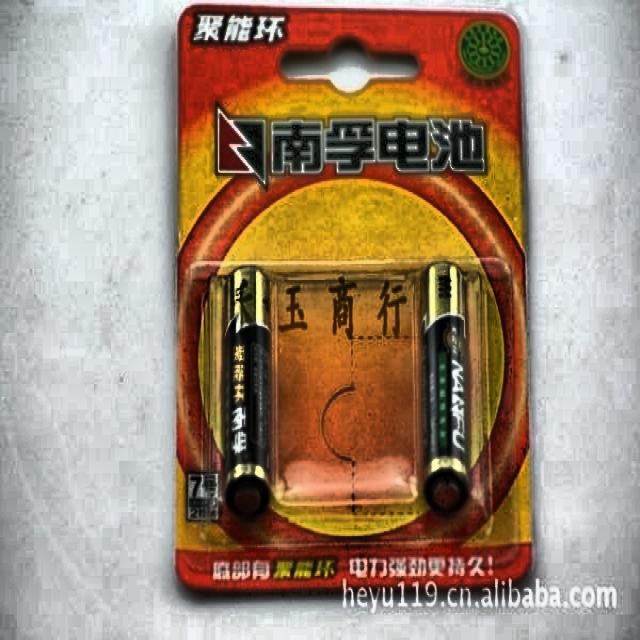Non-Valuable Waste - Batteries: (178, 6, 530, 592)
